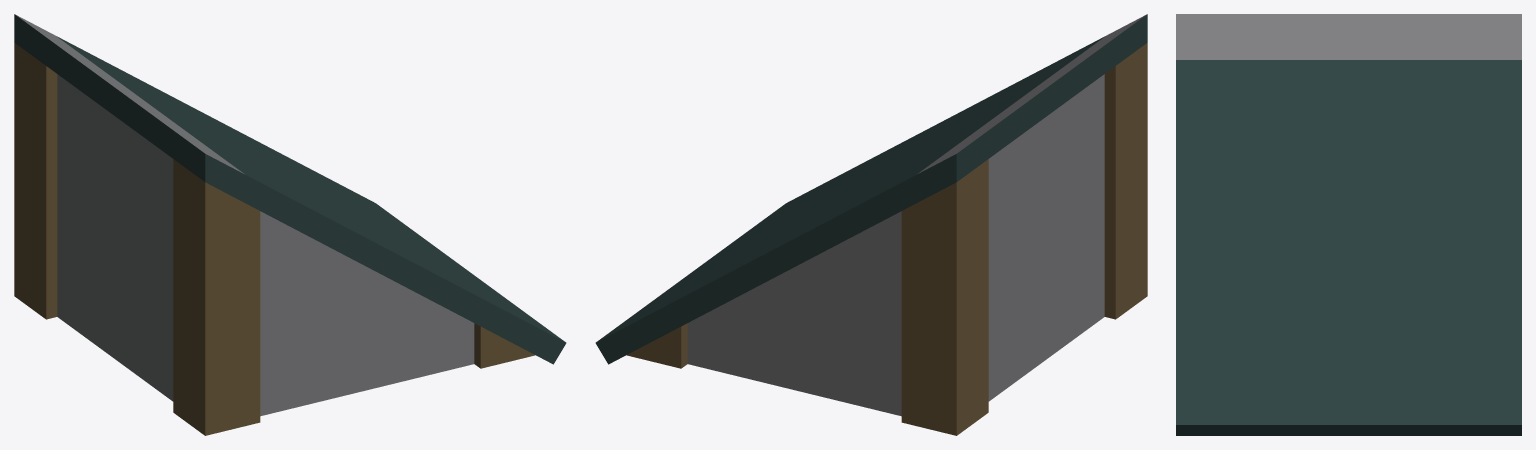
Rendered from Roof_Slant_Green_01.obj.
The picture shows the model from 3 angles, left to right: view 1: azimuth 30°, elevation 25°; view 2: azimuth 150°, elevation 25°; view 3: azimuth 270°, elevation 25°; orthographic projection. The views are drawn at different scales.
Parts seen in each view (by area): view 1: Mesh1_Roof_Slant_Green_Model; view 2: Mesh1_Roof_Slant_Green_Model; view 3: Mesh1_Roof_Slant_Green_Model.
Boxes of the visible parts, box(x1,y1,x2,y2) form: Mesh1_Roof_Slant_Green_Model: box(14, 14, 566, 435); Mesh1_Roof_Slant_Green_Model: box(595, 14, 1147, 435); Mesh1_Roof_Slant_Green_Model: box(1176, 14, 1521, 435).
Size of the model in its own units: 3.28 by 2.57 by 3.
